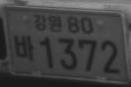0: (80, 16, 95, 34)
1: (38, 36, 56, 69)
2: (100, 40, 120, 74)
3: (57, 36, 77, 70)
7: (79, 38, 97, 71)
8: (66, 15, 79, 33)
강원_H: (32, 13, 63, 33)
바: (13, 34, 35, 63)
